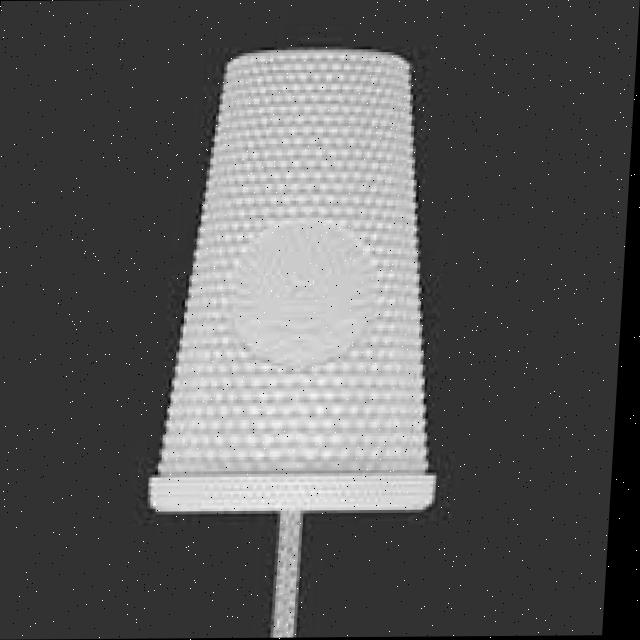cup: (122, 20, 492, 582)
